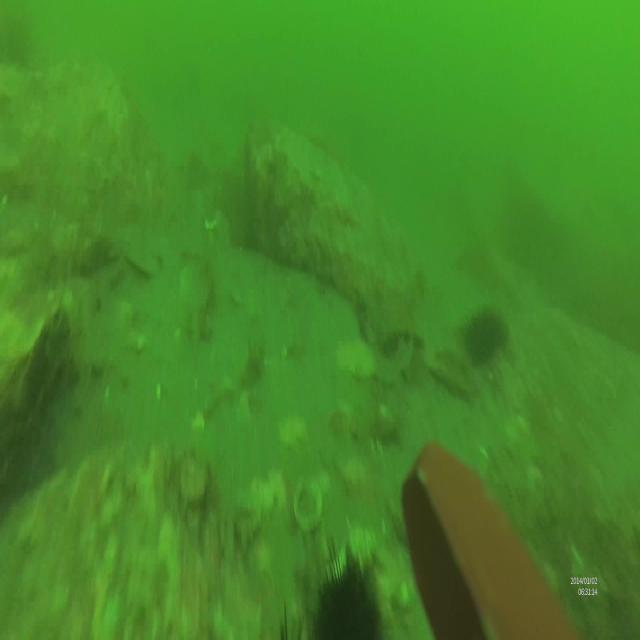echinus: (311, 546, 379, 640), (461, 306, 509, 370)
